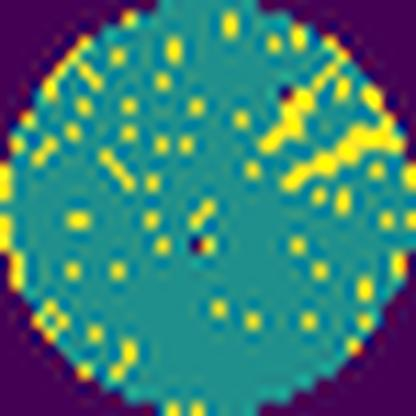Loc: (285, 88, 403, 193), (258, 79, 325, 154)
